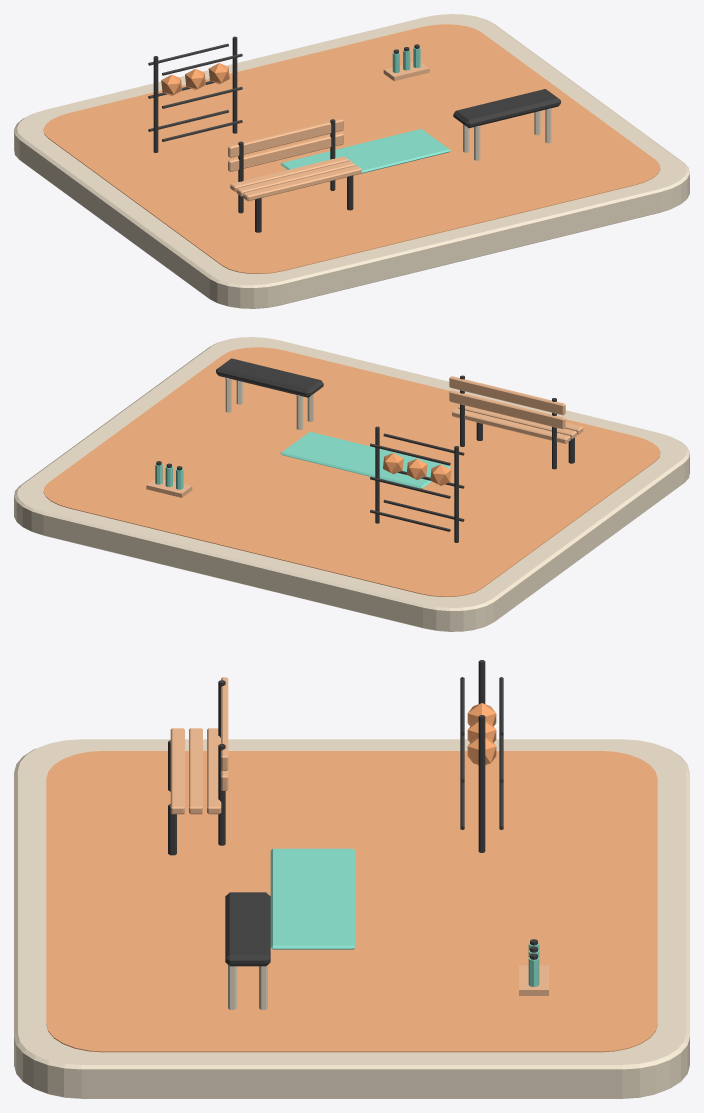
File: room.fbx
3 renders of one model, top to bottom at view 1: azimuth 30°, elevation 25°; view 2: azimuth 150°, elevation 25°; view 3: azimuth 270°, elevation 25°, orthographic. The views are drawn at different scales.
Visible parts, largest first — view 1: COM-02 Floor Surface, COM-01 Rounded Base Direct, Exercise mat, Cushion, Back slat.001, Back slat, Seat slat, Seat slat.001, Seat slat.002, Frame, Frame.001, Tray; view 2: COM-02 Floor Surface, COM-01 Rounded Base Direct, Exercise mat, Cushion, Back slat, Back slat.001, Seat slat.002, Seat slat.001, Frame, Tray; view 3: COM-02 Floor Surface, COM-01 Rounded Base Direct, Exercise mat, Cushion, Seat slat, Seat slat.001, Frame.001, Seat slat.002, Tray, Back slat.001.
Part boxes in pixels (x1=…): COM-02 Floor Surface: x1=43, y1=24, x2=660, y2=273; COM-01 Rounded Base Direct: x1=14, y1=14, x2=689, y2=308; Exercise mat: x1=280, y1=129, x2=450, y2=173; Cushion: x1=453, y1=89, x2=560, y2=128; Back slat.001: x1=228, y1=118, x2=343, y2=157; Back slat: x1=228, y1=132, x2=343, y2=171; Seat slat: x1=243, y1=165, x2=361, y2=201; Seat slat.001: x1=236, y1=161, x2=355, y2=196; Seat slat.002: x1=230, y1=156, x2=348, y2=191; Frame: x1=153, y1=56, x2=158, y2=152; Frame.001: x1=232, y1=36, x2=237, y2=133; Tray: x1=383, y1=62, x2=429, y2=81; COM-02 Floor Surface: x1=43, y1=347, x2=660, y2=596; COM-01 Rounded Base Direct: x1=14, y1=337, x2=689, y2=631; Exercise mat: x1=280, y1=432, x2=450, y2=488; Cushion: x1=216, y1=358, x2=323, y2=397; Back slat: x1=449, y1=390, x2=565, y2=429; Back slat.001: x1=449, y1=376, x2=565, y2=415; Seat slat.002: x1=452, y1=408, x2=570, y2=443; Seat slat.001: x1=458, y1=405, x2=576, y2=439; Frame: x1=454, y1=446, x2=458, y2=542; Tray: x1=146, y1=479, x2=192, y2=497; COM-02 Floor Surface: x1=46, y1=751, x2=657, y2=1052; COM-01 Rounded Base Direct: x1=14, y1=739, x2=689, y2=1098; Exercise mat: x1=270, y1=848, x2=355, y2=949; Cushion: x1=225, y1=892, x2=270, y2=966; Seat slat: x1=170, y1=728, x2=184, y2=814; Seat slat.001: x1=189, y1=728, x2=202, y2=814; Frame.001: x1=478, y1=715, x2=485, y2=852; Seat slat.002: x1=207, y1=728, x2=221, y2=814; Tray: x1=519, y1=965, x2=548, y2=995; Back slat.001: x1=221, y1=677, x2=228, y2=770.
Size of the model in its own units: 600 by 145 by 520.
